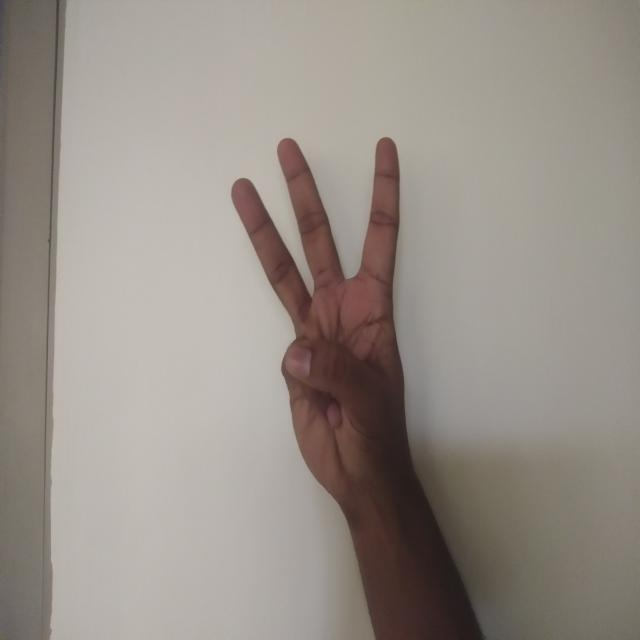Please: (212, 112, 454, 511)
